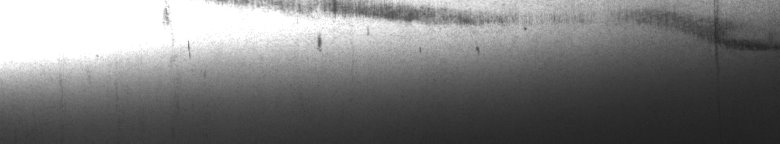ke: (162, 4, 776, 68)
